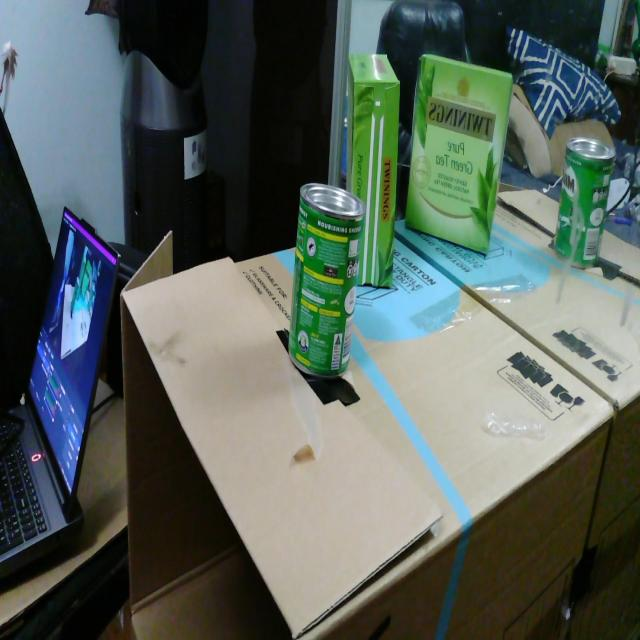nestle_milo_tin: (288, 183, 366, 377)
twinings_greentea_box: (347, 54, 400, 287)
